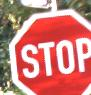Stop sign: (0, 0, 90, 94)
